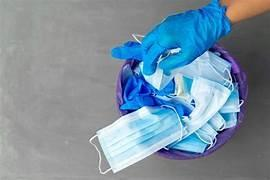Glove: (112, 0, 230, 74)
Mask: (89, 106, 182, 173), (142, 51, 231, 89), (143, 51, 231, 89), (183, 77, 230, 134), (120, 75, 174, 109), (176, 51, 231, 84), (139, 61, 173, 89), (139, 62, 174, 89), (168, 133, 207, 152), (219, 84, 243, 112), (208, 51, 230, 77), (195, 123, 217, 148), (174, 73, 191, 102), (208, 112, 225, 130), (221, 112, 236, 128)
